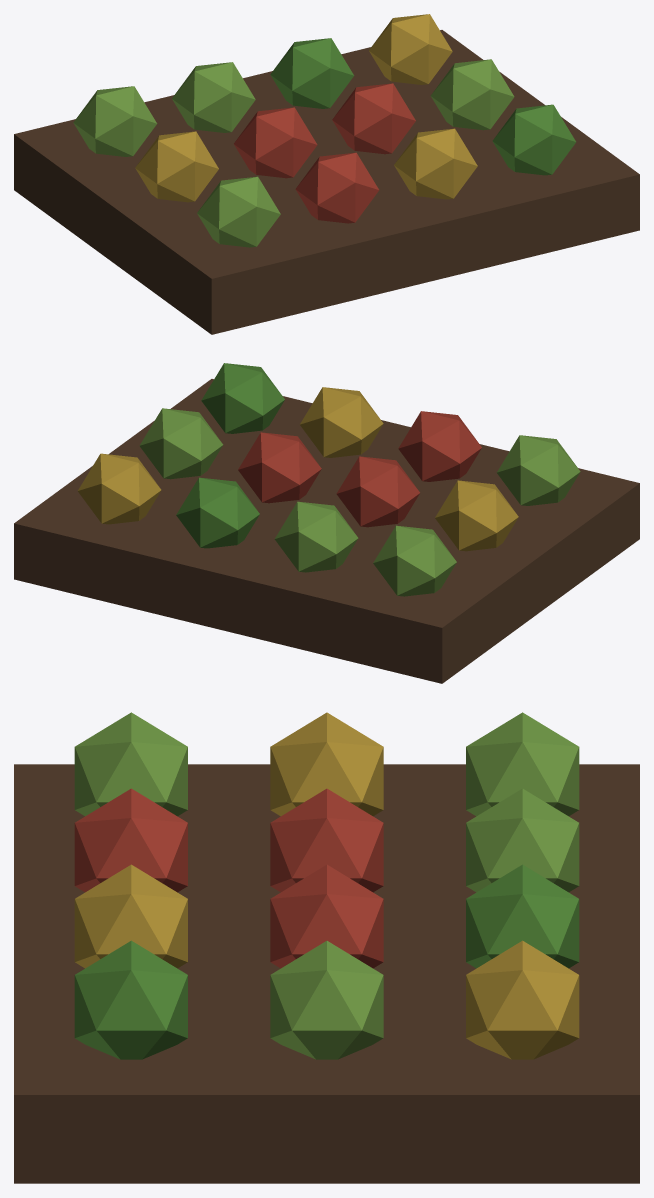
Rendered from vegetable-patch.glb.
The picture shows the model from 3 angles, top to bottom: view 1: azimuth 30°, elevation 25°; view 2: azimuth 150°, elevation 25°; view 3: azimuth 270°, elevation 25°; orthographic projection. The views are drawn at different scales.
Visible parts, largest first — view 1: Vegetable Patch; view 2: Vegetable Patch; view 3: Vegetable Patch.
Boxes of the visible parts, x1,y1,x2,y2 form: Vegetable Patch: [14, 14, 639, 334]; Vegetable Patch: [14, 363, 639, 683]; Vegetable Patch: [14, 712, 639, 1183].
Bounding box in the file's own units: 0.2 × 0.0495 × 0.16.
